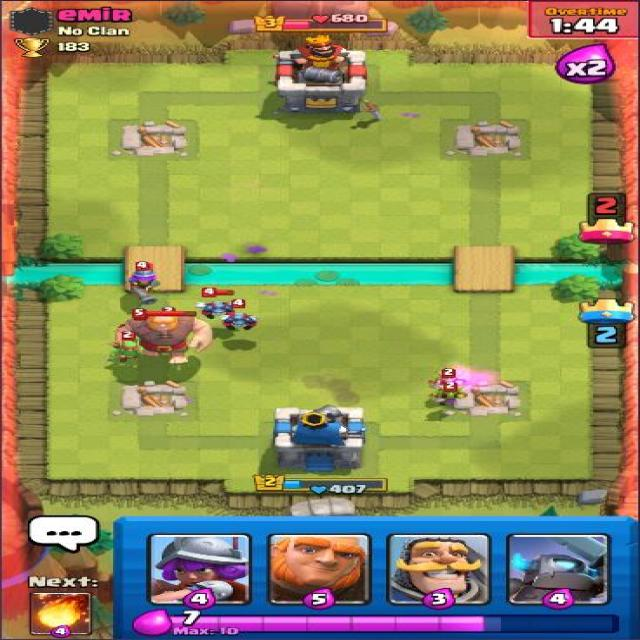Enemy-Giant: (115, 308, 217, 366)
Enemy-Goblin: (428, 367, 469, 397), (426, 381, 468, 407)
Enemy-Minion: (192, 287, 246, 322), (217, 297, 261, 335)
Enemy-Musketeer: (124, 259, 165, 307)
Enemy-SpearGoblin: (160, 303, 200, 340), (110, 330, 146, 365)
